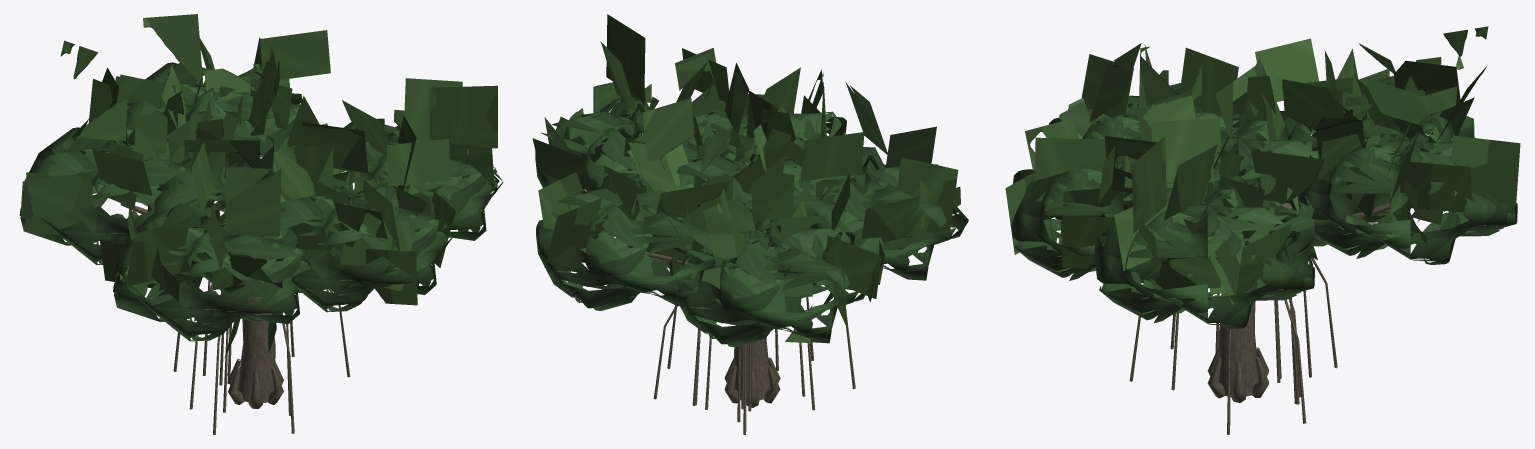
Rendered from nature.tree.beringin.glb.
The picture shows the model from 3 angles, left to right: view 1: azimuth 30°, elevation 25°; view 2: azimuth 150°, elevation 25°; view 3: azimuth 270°, elevation 25°; orthographic projection. The views are drawn at different scales.
Parts seen in each view (by area): view 1: nature.tree.beringin; view 2: nature.tree.beringin; view 3: nature.tree.beringin.
Boxes of the visible parts, x1=… form: nature.tree.beringin: x1=19, y1=14, x2=503, y2=434; nature.tree.beringin: x1=532, y1=14, x2=968, y2=434; nature.tree.beringin: x1=1005, y1=26, x2=1520, y2=434.
Bounding box in the file's own units: 14.85 × 10.7 × 14.88.
Materials: 3 (3 with a texture image).
